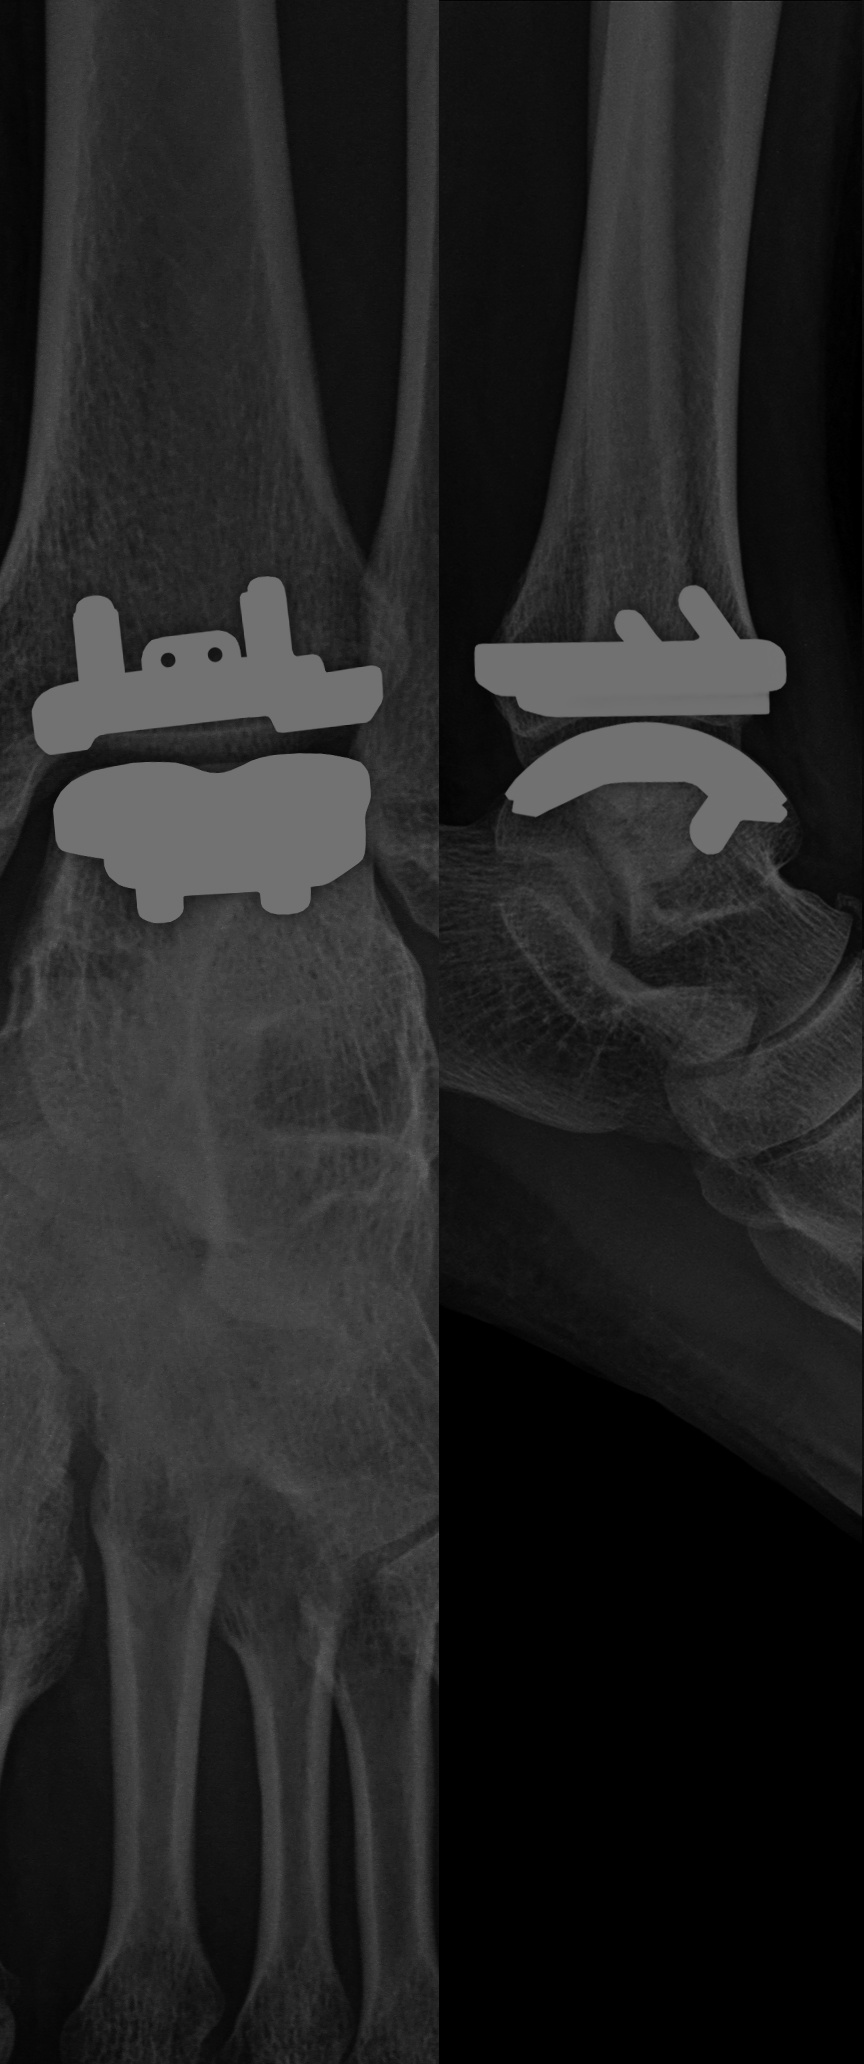Cadence-Integra: (20, 563, 407, 953), (454, 579, 807, 885)
